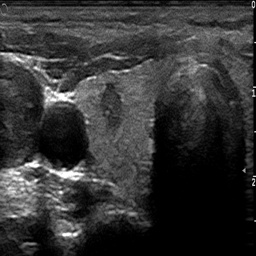mass: (99, 84, 121, 131)
